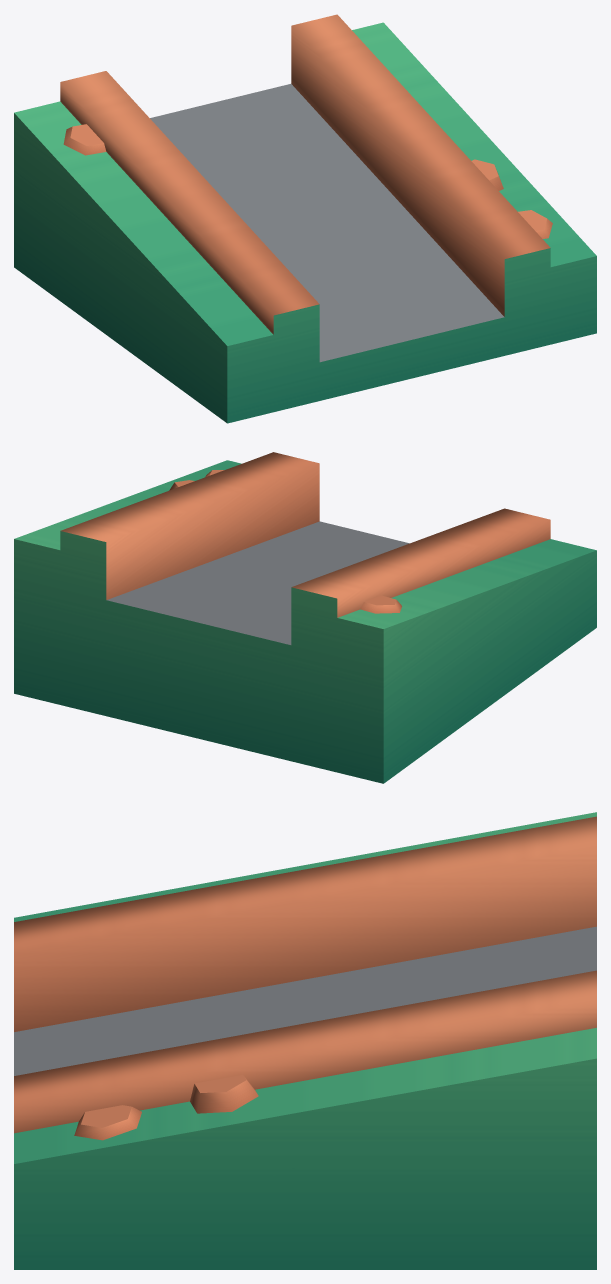
Rendered from tile-river-slope.fbx.
3 renders of one model, top to bottom at view 1: azimuth 30°, elevation 25°; view 2: azimuth 150°, elevation 25°; view 3: azimuth 270°, elevation 25°, orthographic. The views are drawn at different scales.
Parts seen in each view (by area): view 1: tile-river-slope; view 2: tile-river-slope; view 3: tile-river-slope.
Part boxes in pixels (box(x1,y1,x2,y2)): tile-river-slope: box(14, 14, 596, 423); tile-river-slope: box(14, 452, 596, 783); tile-river-slope: box(14, 812, 596, 1269).
Size of the model in its own units: 100 by 45 by 100.
